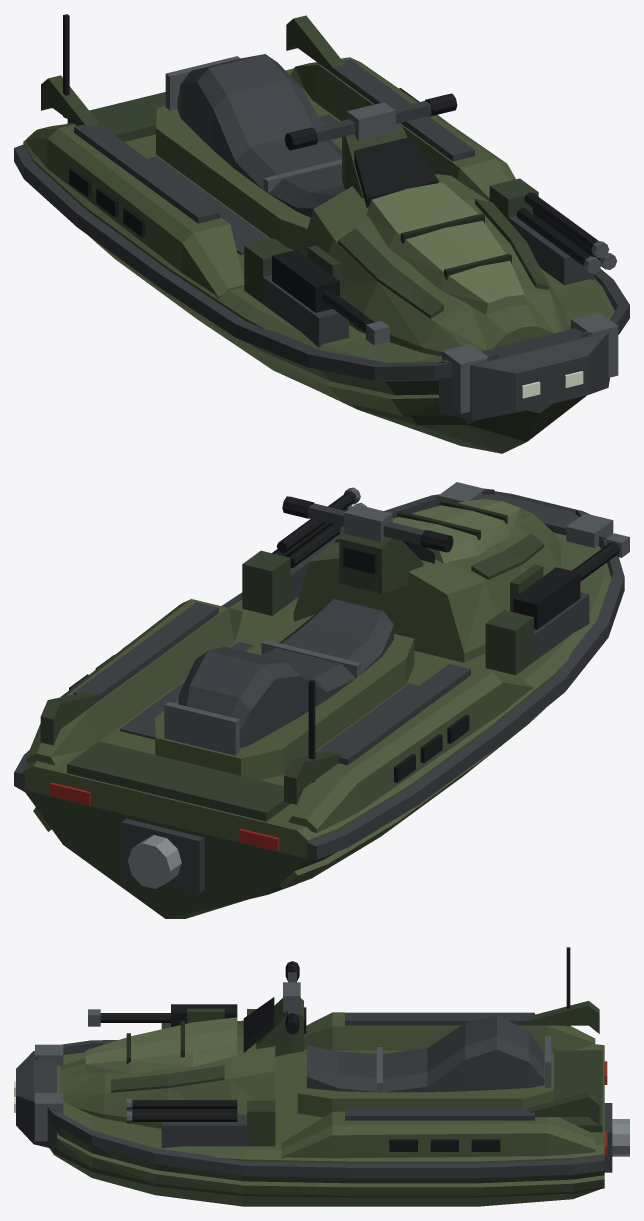
File: MilitaryWaveRunnerClean.glb
3 renders of one model, top to bottom at view 1: azimuth 30°, elevation 25°; view 2: azimuth 150°, elevation 25°; view 3: azimuth 270°, elevation 25°, orthographic. The views are drawn at different scales.
Parts seen in each view (by area): view 1: MilitaryWaveRunner; view 2: MilitaryWaveRunner; view 3: MilitaryWaveRunner.
Part boxes in pixels (x1,y1,x2,y2): MilitaryWaveRunner: (14, 14, 629, 453); MilitaryWaveRunner: (14, 482, 629, 918); MilitaryWaveRunner: (14, 947, 629, 1206).
Size of the model in its own units: 4.43 by 3.49 by 8.95.
Materials: 1 (1 with a texture image).
